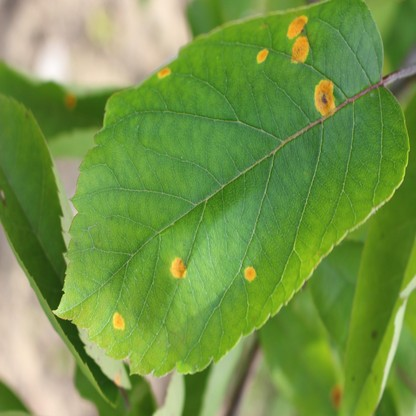rust: (286, 15, 309, 63), (314, 78, 335, 114), (328, 381, 342, 409), (170, 258, 187, 278), (61, 90, 75, 110), (112, 311, 125, 330), (244, 266, 257, 282), (256, 49, 268, 64), (158, 66, 170, 77), (113, 371, 120, 383)
